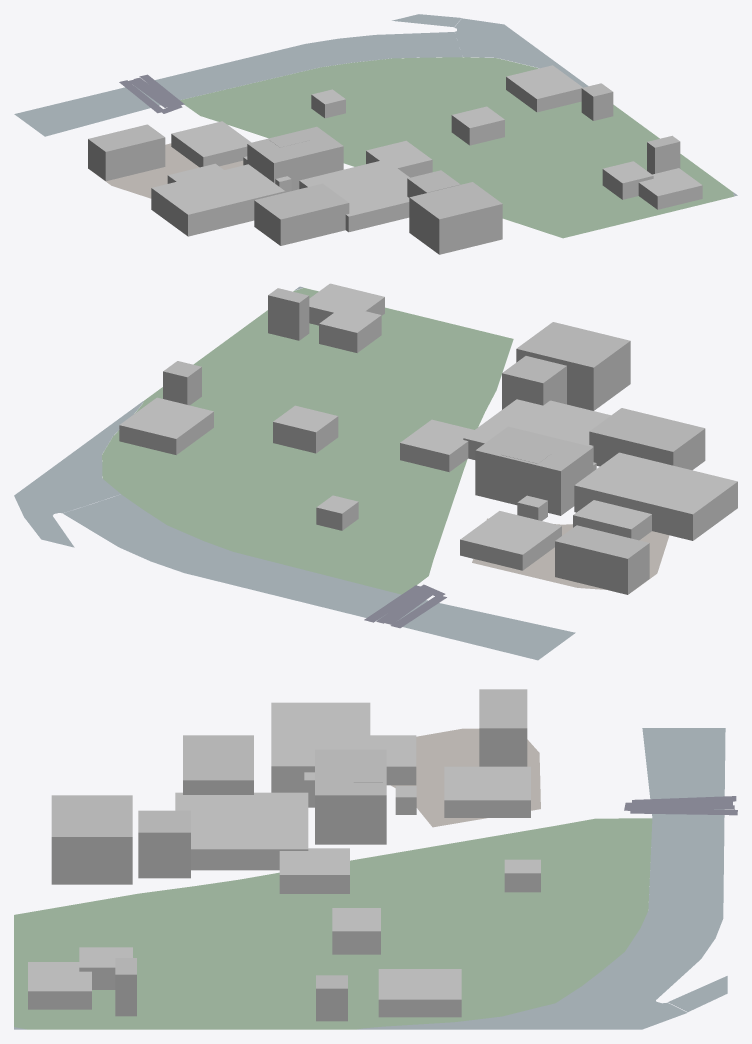
File: 124_94_mid.glb
3 renders of one model, top to bottom at view 1: azimuth 30°, elevation 25°; view 2: azimuth 150°, elevation 25°; view 3: azimuth 270°, elevation 25°, orthographic. The views are drawn at different scales.
Size of the model in its own units: 500 by 38.5 by 507.
